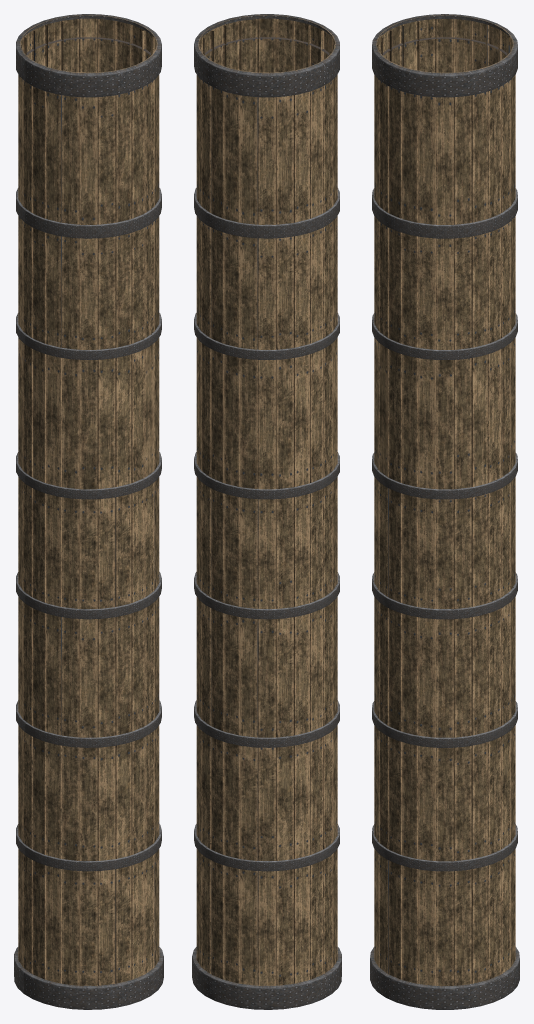
The model's file is SM_Wall_Pannels_11.fbx.
3 views of the same model, side by side, from view 1: azimuth 30°, elevation 25°; view 2: azimuth 150°, elevation 25°; view 3: azimuth 270°, elevation 25° (orthographic).
Visible parts, largest first — view 1: SM_Wall_Pannels_11_LOD0; view 2: SM_Wall_Pannels_11_LOD0; view 3: SM_Wall_Pannels_11_LOD0.
Boxes of the visible parts, box(x1,y1,x2,y2) form: SM_Wall_Pannels_11_LOD0: box(14, 14, 163, 1009); SM_Wall_Pannels_11_LOD0: box(192, 14, 341, 1009); SM_Wall_Pannels_11_LOD0: box(370, 14, 519, 1009).
Bounding box in the file's own units: 178 × 178 × 1228.
